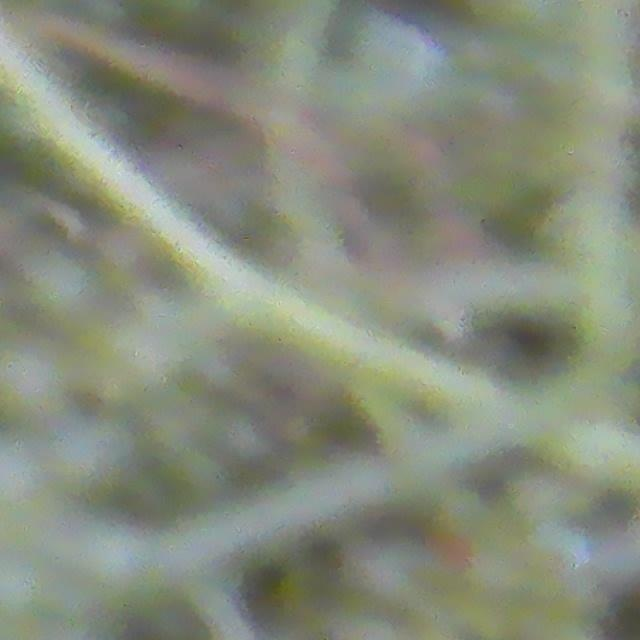SeaGrape: (27, 251, 101, 327), (73, 529, 131, 604), (0, 548, 49, 618)
